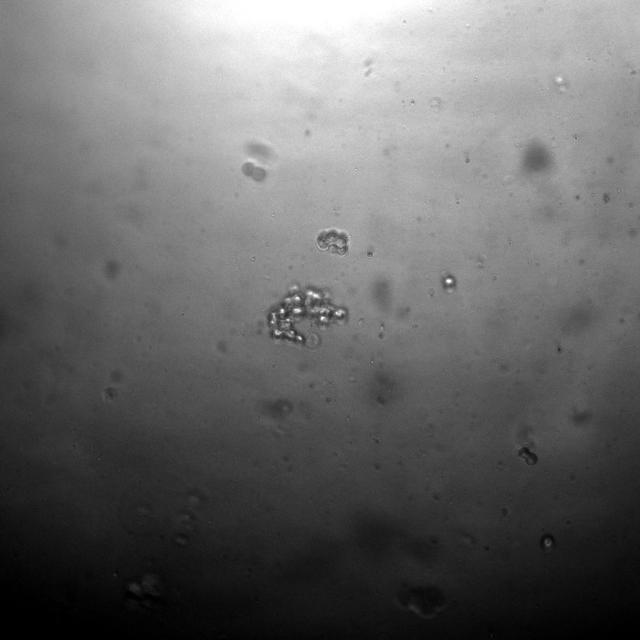organoid: (266, 282, 349, 349), (316, 229, 348, 255), (242, 160, 266, 181), (517, 446, 538, 465), (366, 250, 373, 257)
